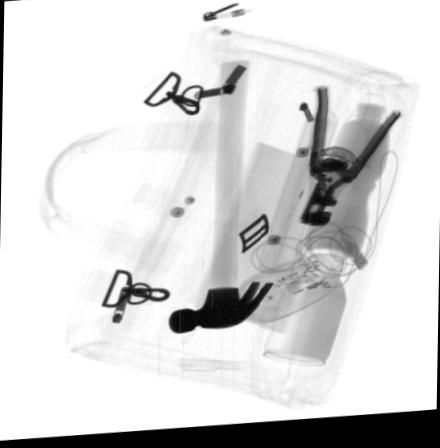Hammer: (165, 63, 273, 337)
Pliers: (298, 89, 403, 233)
